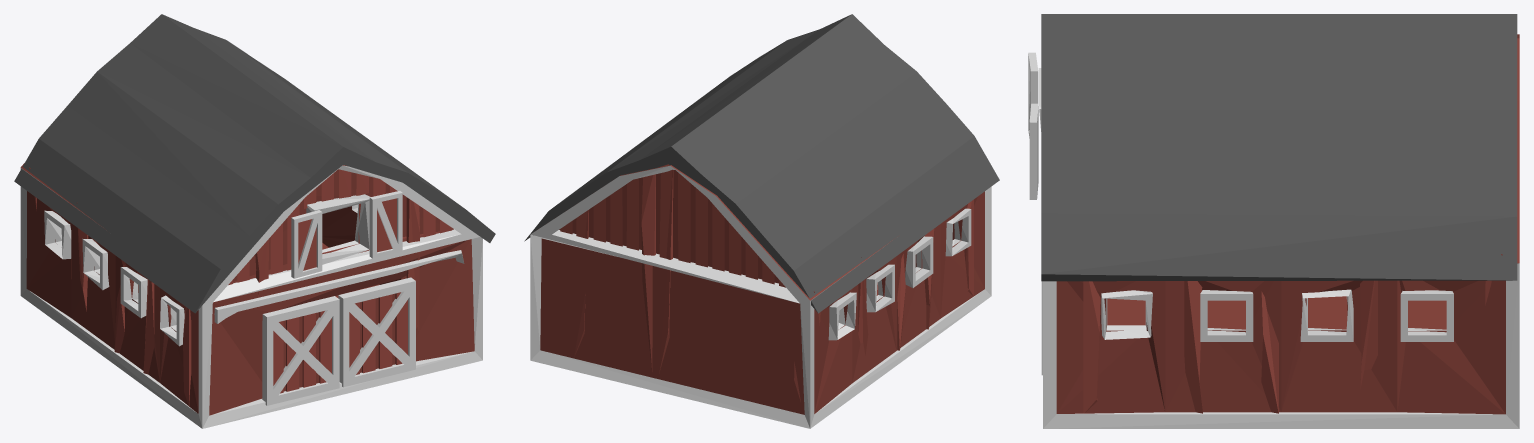
Rendered from Barn.lod1.glb.
The picture shows the model from 3 angles, left to right: view 1: azimuth 30°, elevation 25°; view 2: azimuth 150°, elevation 25°; view 3: azimuth 270°, elevation 25°; orthographic projection. The views are drawn at different scales.
Parts seen in each view (by area): view 1: Barn, Barn_Door2, Barn_Door, Barn_Window, Barn_Window2; view 2: Barn; view 3: Barn, Barn_Window, Barn_Window2.
Part boxes in pixels (<box>): Barn: <box>14,14,495,428</box>; Barn_Door2: <box>262,296,339,405</box>; Barn_Door: <box>338,277,415,387</box>; Barn_Window: <box>369,191,402,258</box>; Barn_Window2: <box>291,210,322,278</box>; Barn: <box>524,14,999,428</box>; Barn: <box>1038,14,1519,428</box>; Barn_Window: <box>1029,103,1038,199</box>; Barn_Window2: <box>1028,52,1038,138</box>.
Size of the model in its own units: 7.61 by 6.01 by 8.22.
